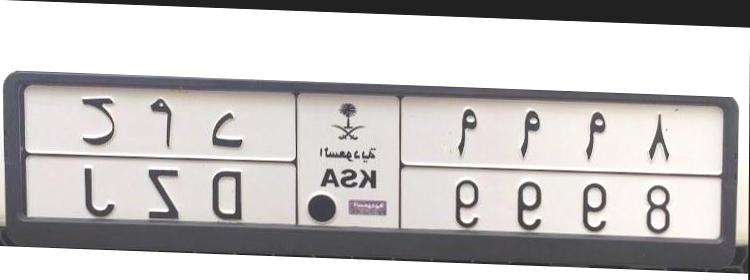License_Plate: (14, 73, 731, 250)
